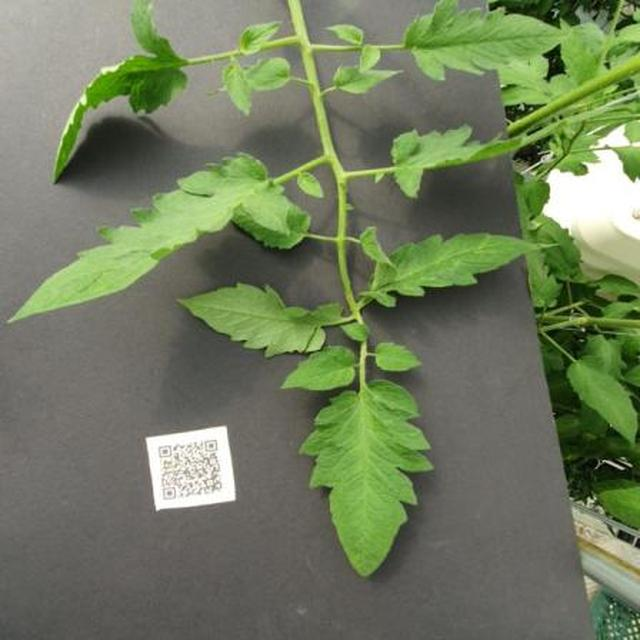Healthy Leaf: (108, 58, 640, 640)
